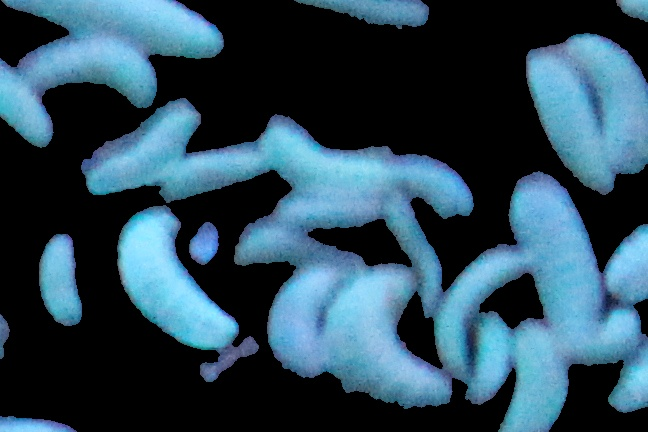larvae: (322, 267, 455, 428), (507, 176, 611, 361), (116, 207, 241, 342), (522, 40, 616, 203), (428, 249, 528, 386), (266, 115, 401, 201), (572, 28, 648, 176), (1, 1, 228, 49), (24, 36, 159, 115), (89, 103, 199, 186), (272, 261, 336, 380), (508, 320, 571, 432), (229, 219, 363, 270), (1, 44, 61, 155), (157, 144, 270, 199), (395, 153, 484, 222), (295, 1, 439, 36), (39, 234, 91, 328), (466, 309, 511, 411), (270, 197, 389, 233), (609, 221, 648, 309), (599, 300, 644, 371), (607, 346, 648, 409), (1, 236, 14, 347)
